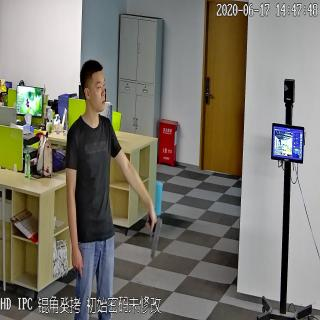gun: (142, 208, 164, 255)
